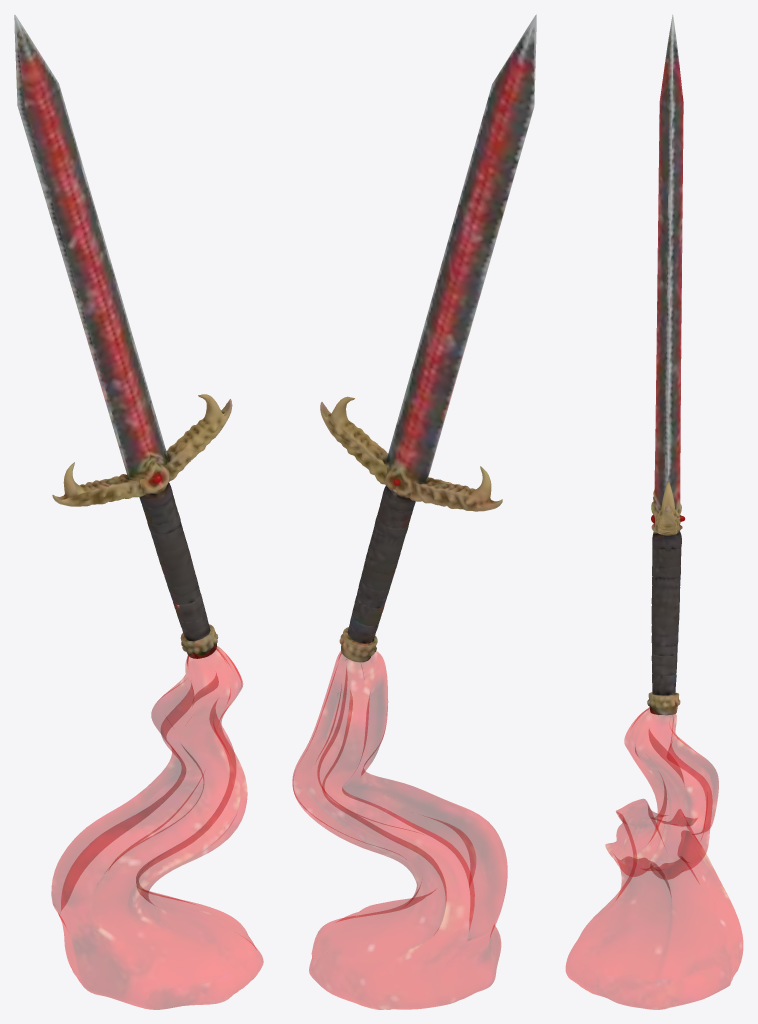
File: MZ4250 - Flying Sword_4_2025.glb
3 renders of one model, left to right at view 1: azimuth 30°, elevation 25°; view 2: azimuth 150°, elevation 25°; view 3: azimuth 270°, elevation 25°, orthographic. The views are drawn at different scales.
Visible parts, largest first — view 1: Longsword.002; view 2: Longsword.002; view 3: Longsword.002.
Boxes of the visible parts, x1=… form: Longsword.002: x1=14, y1=14, x2=263, y2=1009; Longsword.002: x1=292, y1=14, x2=536, y2=1009; Longsword.002: x1=566, y1=14, x2=742, y2=1009.
Size of the model in its own units: 25.47 by 105 by 18.72.
1 material, 1 textured.
